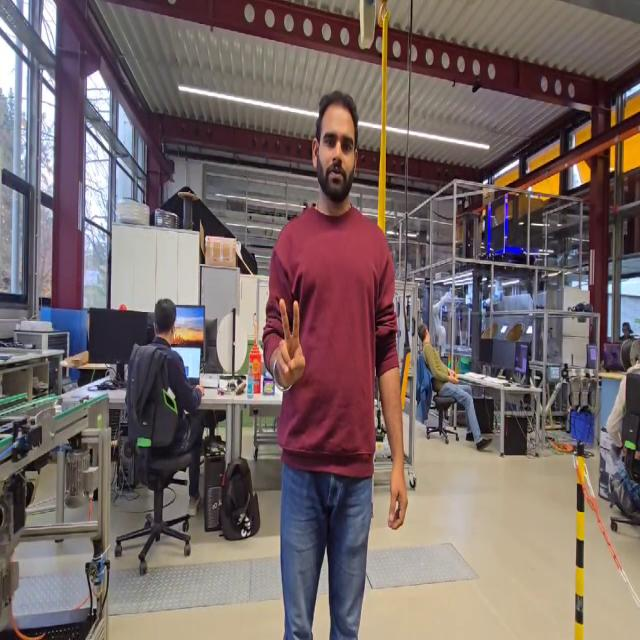v_sign: (271, 294, 307, 394)
